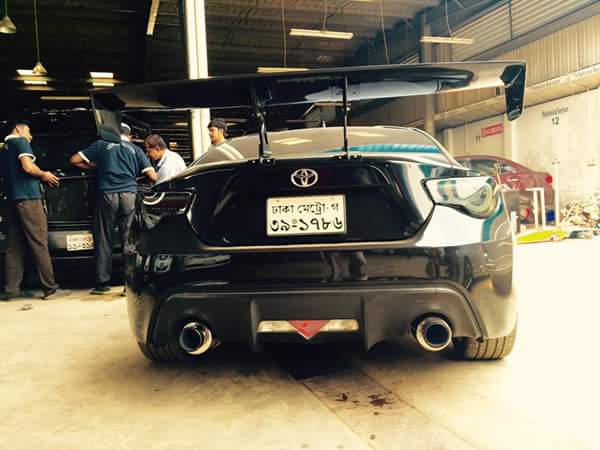registration_plate: (265, 193, 347, 235)
